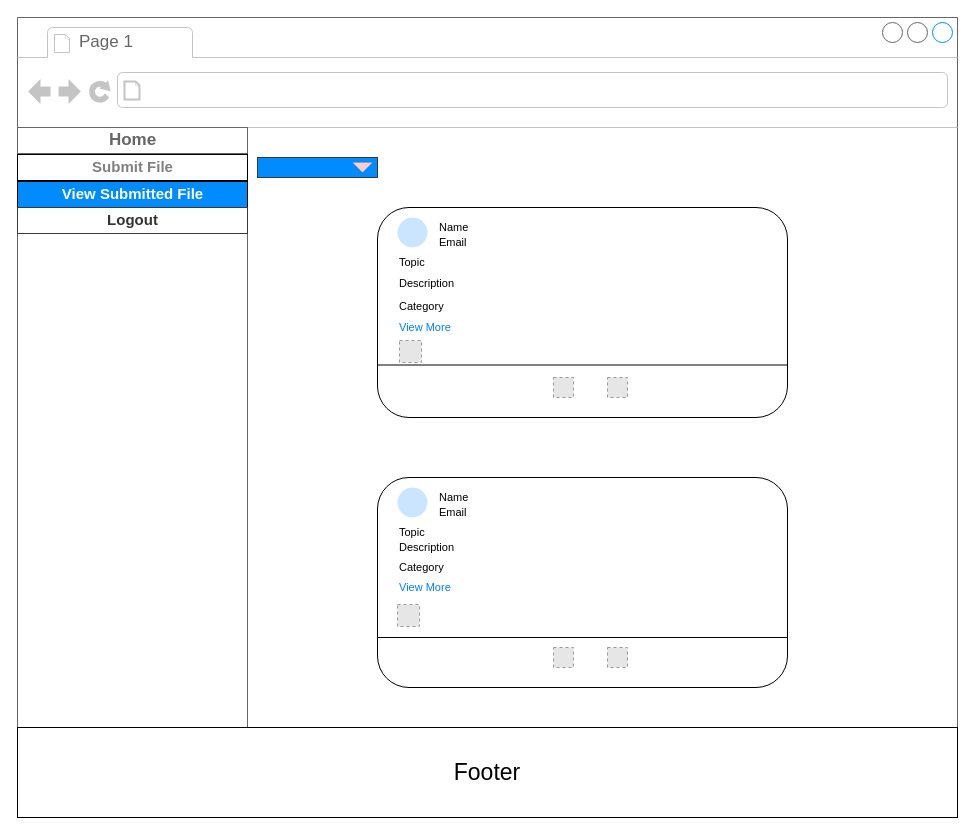
Image size: 975x835. Some labels were removed from this diagram. Grey dashed boxes stand in for pictures. Each missing label, with the box of its shape:
https://www.draw.io: (146, 76, 398, 104)
Select: (256, 156, 378, 178)
